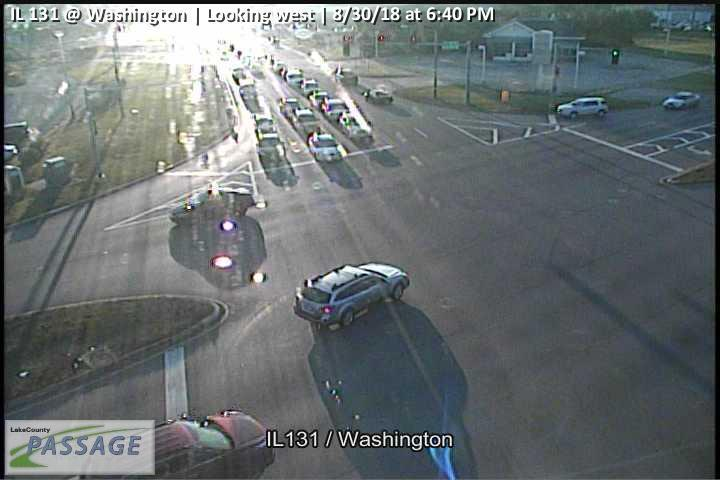SUV: (557, 95, 611, 120)
Sedan: (291, 261, 409, 328), (167, 187, 254, 226), (307, 133, 343, 164), (661, 89, 702, 109)
